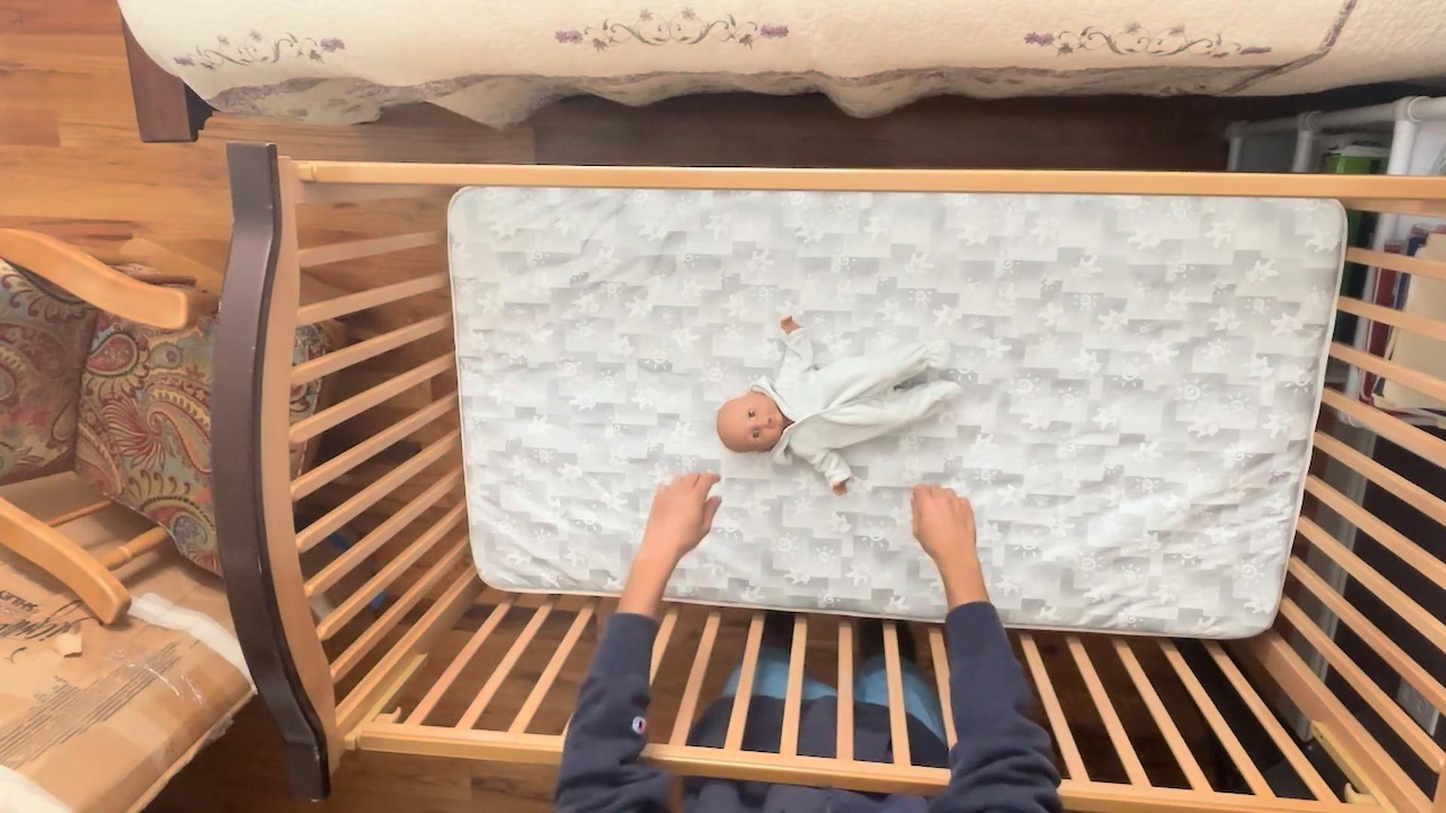baby: (715, 303, 958, 499)
